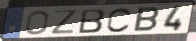4: (162, 4, 184, 33)
B: (132, 6, 161, 33), (78, 8, 107, 35)
C: (106, 7, 134, 34)
O: (24, 10, 50, 36)
Z: (49, 9, 79, 35)
